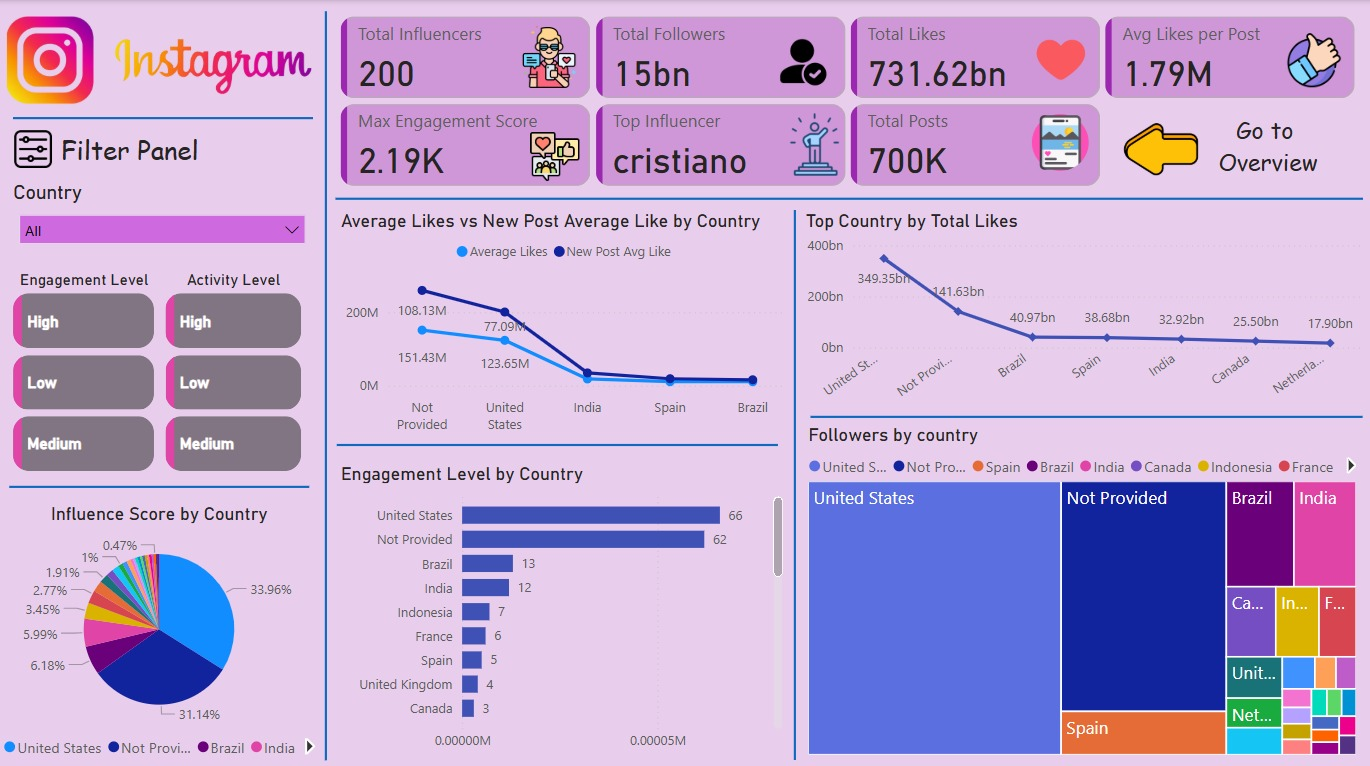

This screenshot's page, from the dashboard's own definition file:
{"tool":"powerbi","page":{"name":"Dashboard_2","canvas":[1280,720],"ordinal":1},"visuals":[{"type":"image","box":[3.5,0,294.2,112.8],"z":0},{"type":"cardVisual","fields":{"Data":["CountNonNull(final_cleaned_instagram_data.channel_info)","final_cleaned_instagram_data.Total Followers","final_cleaned_instagram_data.Total Likes","final_cleaned_instagram_data.Avg Likes per Post","final_cleaned_instagram_data.Max Engagement Score","final_cleaned_instagram_data.Top Influencer","Sum(final_cleaned_instagram_data.posts)"]},"box":[314,10.5,955.8,168.6],"z":1000},{"type":"shape","box":[314,174.4,955.8,20.9],"z":2000},{"type":"shape","box":[299.1,11,12.3,697.1],"z":3000},{"type":"shape","box":[14,104.7,279.1,10.5],"z":4000},{"type":"textbox","box":[53.5,118,159.2,43.9],"z":5000},{"type":"image","box":[4.1,116.6,56.3,45.3],"z":6000},{"type":"advancedSlicerVisual","title":"Engagement Level","fields":{"Values":["final_cleaned_instagram_data.engagement_level"]},"box":[9.3,251.2,141.9,191.9],"z":7000},{"type":"advancedSlicerVisual","title":"Activity Level","fields":{"Values":["final_cleaned_instagram_data.activity_level"]},"box":[151.2,251.2,136,191.9],"z":8000},{"type":"shape","box":[10.5,447.7,279.1,10.5],"z":9000},{"type":"shape","box":[734.9,195.3,12.8,511.6],"z":10000},{"type":"shape","box":[755.8,381.4,514,12.8],"z":11000},{"type":"image","box":[1194.2,24.4,60.5,64],"z":12000},{"type":"image","box":[724.4,100,70.9,68.6],"z":13000},{"type":"image","box":[957,96.5,62.8,72.1],"z":14000},{"type":"image","box":[489.5,111.6,57,67.4],"z":16000},{"type":"image","box":[953.5,24.4,69.8,62.8],"z":17000},{"type":"image","box":[479.1,18.6,67.4,68.6],"z":18000},{"type":"image","box":[716.3,29.1,65.1,58.1],"z":19000},{"type":"slicer","title":"Country","fields":{"Values":["final_cleaned_instagram_data.country"]},"box":[9.6,168.8,286.8,68.6],"z":20000},{"type":"stackedAreaChart","title":"Average Likes vs New Post Average Like by Country","fields":{"Category":["final_cleaned_instagram_data.country"],"Y":["final_cleaned_instagram_data.Average Likes","final_cleaned_instagram_data.New Post Avg Like"]},"box":[314,195.3,429.1,215.1],"z":21000},{"type":"clusteredBarChart","title":"Engagement Level by Country","fields":{"Category":["final_cleaned_instagram_data.country"],"Y":["CountNonNull(final_cleaned_instagram_data.engagement_level)"]},"box":[314,430.2,420.9,276.7],"z":22000},{"type":"lineChart","title":"Top Country by Total Likes","fields":{"Category":["final_cleaned_instagram_data.country"],"Y":["Sum(final_cleaned_instagram_data.total_likes)"]},"box":[746.5,195.3,525.6,187.2],"z":23000},{"type":"treemap","title":"Followers by country","fields":{"Group":["final_cleaned_instagram_data.country"],"Values":["Sum(final_cleaned_instagram_data.followers)"]},"box":[748.8,394.2,519.8,312.8],"z":24000},{"type":"shape","box":[315.1,405.7,410.5,16.3],"z":25000},{"type":"pieChart","title":"Influence Score by Country","fields":{"Y":["Sum(final_cleaned_instagram_data.influence_score)"],"Category":["final_cleaned_instagram_data.country"]},"box":[0,467.4,300,246.5],"z":26000},{"type":"textbox","box":[1086,101.2,190.7,73.3],"z":26001},{"type":"image","box":[1041.9,98.8,80.2,80.2],"z":26002}]}

Visuals, with their boxes in screenshot pixels (x1, y1, x2, y2), scaled from the page's 1280x720 canvas onto the 1370x766 screenshot:
image: <box>4,0,319,120</box>
cardVisual - CountNonNull(final_cleaned_instagram_data.channel_info) x final_cleaned_instagram_data.Total Followers: <box>336,11,1359,191</box>
shape: <box>336,186,1359,208</box>
shape: <box>320,12,333,753</box>
shape: <box>15,111,314,123</box>
textbox: <box>57,126,228,172</box>
image: <box>4,124,65,172</box>
"Engagement Level" advancedSlicerVisual: <box>10,267,162,471</box>
"Activity Level" advancedSlicerVisual: <box>162,267,307,471</box>
shape: <box>11,476,310,487</box>
shape: <box>787,208,800,752</box>
shape: <box>809,406,1359,419</box>
image: <box>1278,26,1343,94</box>
image: <box>775,106,851,179</box>
image: <box>1024,103,1092,179</box>
image: <box>524,119,585,190</box>
image: <box>1021,26,1095,93</box>
image: <box>513,20,585,93</box>
image: <box>767,31,836,93</box>
"Country" slicer: <box>10,180,317,253</box>
"Average Likes vs New Post Average Like by Country" stackedAreaChart: <box>336,208,795,437</box>
"Engagement Level by Country" clusteredBarChart: <box>336,458,787,752</box>
"Top Country by Total Likes" lineChart: <box>799,208,1362,407</box>
"Followers by country" treemap: <box>801,419,1358,752</box>
shape: <box>337,432,777,449</box>
"Influence Score by Country" pieChart: <box>0,497,321,760</box>
textbox: <box>1162,108,1366,186</box>
image: <box>1115,105,1201,190</box>
